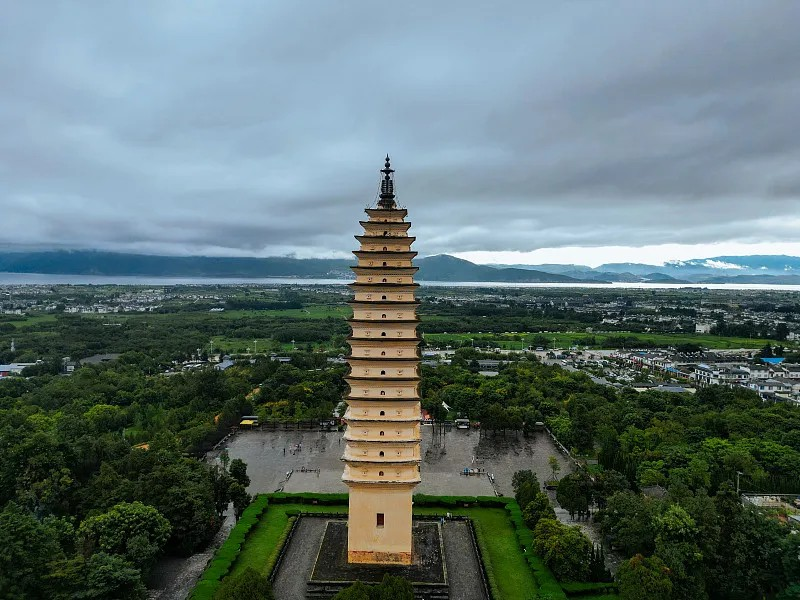ThreePagoda: (340, 152, 421, 565)
